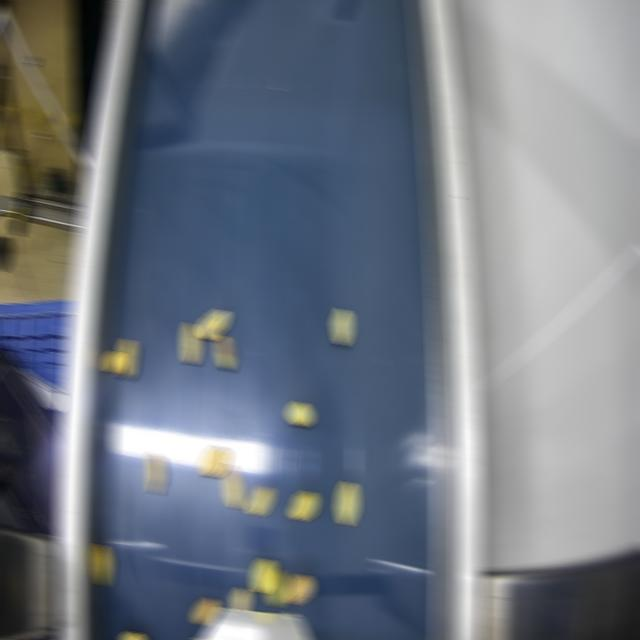Baby Potato: (337, 481, 356, 525), (266, 568, 287, 607), (199, 310, 226, 340), (286, 574, 311, 605), (224, 464, 241, 509), (201, 447, 226, 477), (93, 544, 110, 586), (292, 490, 315, 520), (253, 560, 274, 592), (249, 486, 272, 515), (183, 322, 198, 364), (333, 308, 350, 345), (193, 598, 216, 625), (147, 453, 162, 493), (119, 338, 134, 378), (216, 335, 233, 369), (287, 401, 310, 426), (232, 587, 249, 610), (106, 351, 121, 373), (122, 633, 143, 639)
